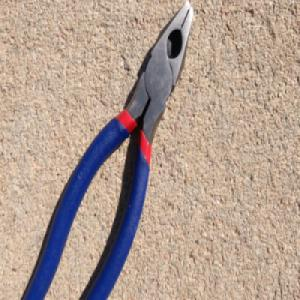Pliers: (21, 0, 194, 300)
